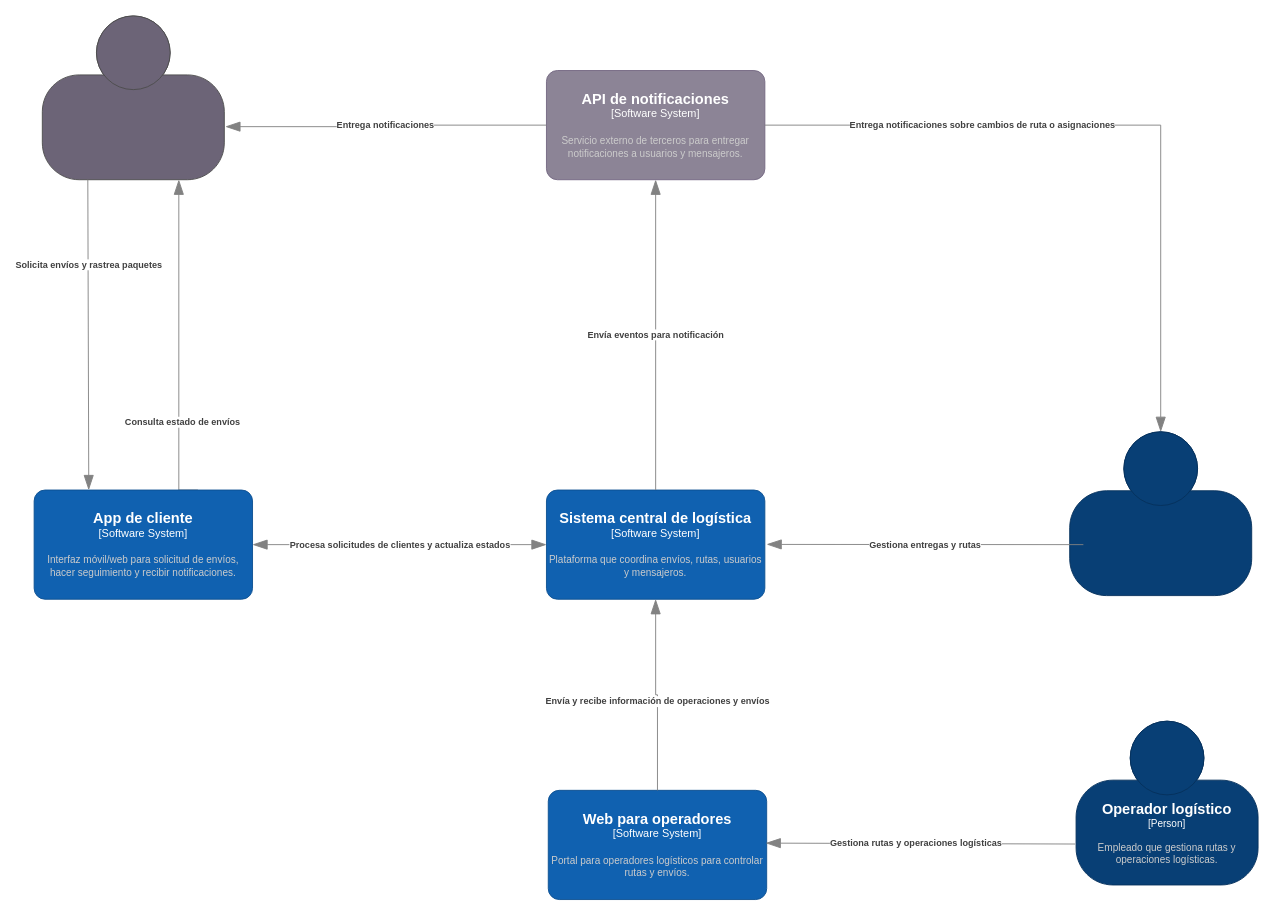
Some shapes in this 1274 by 915 pixel diagram are drawn without their labels. Here are the shapes that lost their labels. From the top down, the centre of each, then its label:
At [132,97]: "Usuario final [Person] Cliente que solicita envíos y rastrea paquetes.".
At [1160,513]: "Mensajero [Person] Personal que recoge, transporta y entrega paquetes.".
